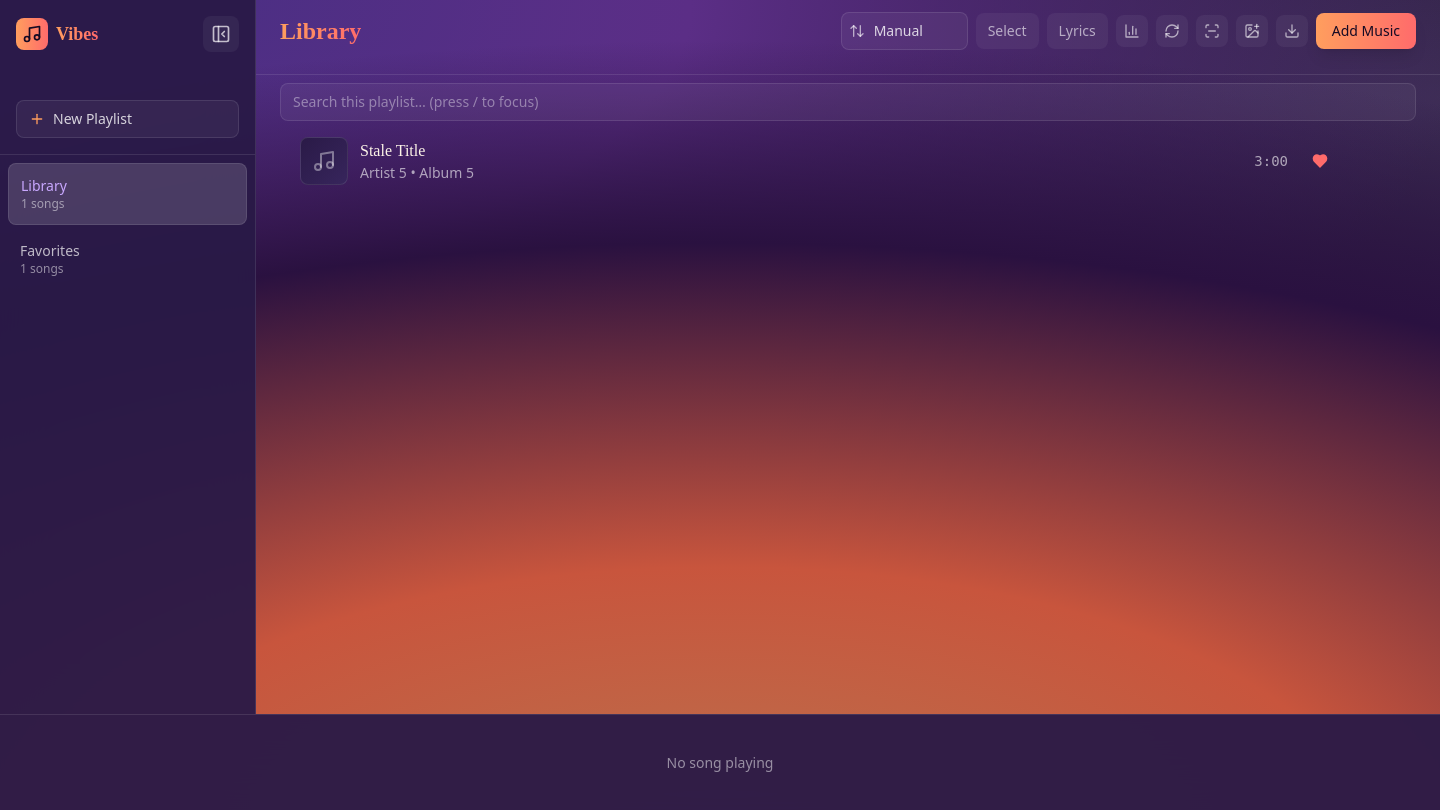
it: re-scan tags › re-reads tags from disk while keeping the id and the heart
Click the button named "Re-scan tags": coordinates (1212, 31) x1=1196 y1=15 x2=1228 y2=47
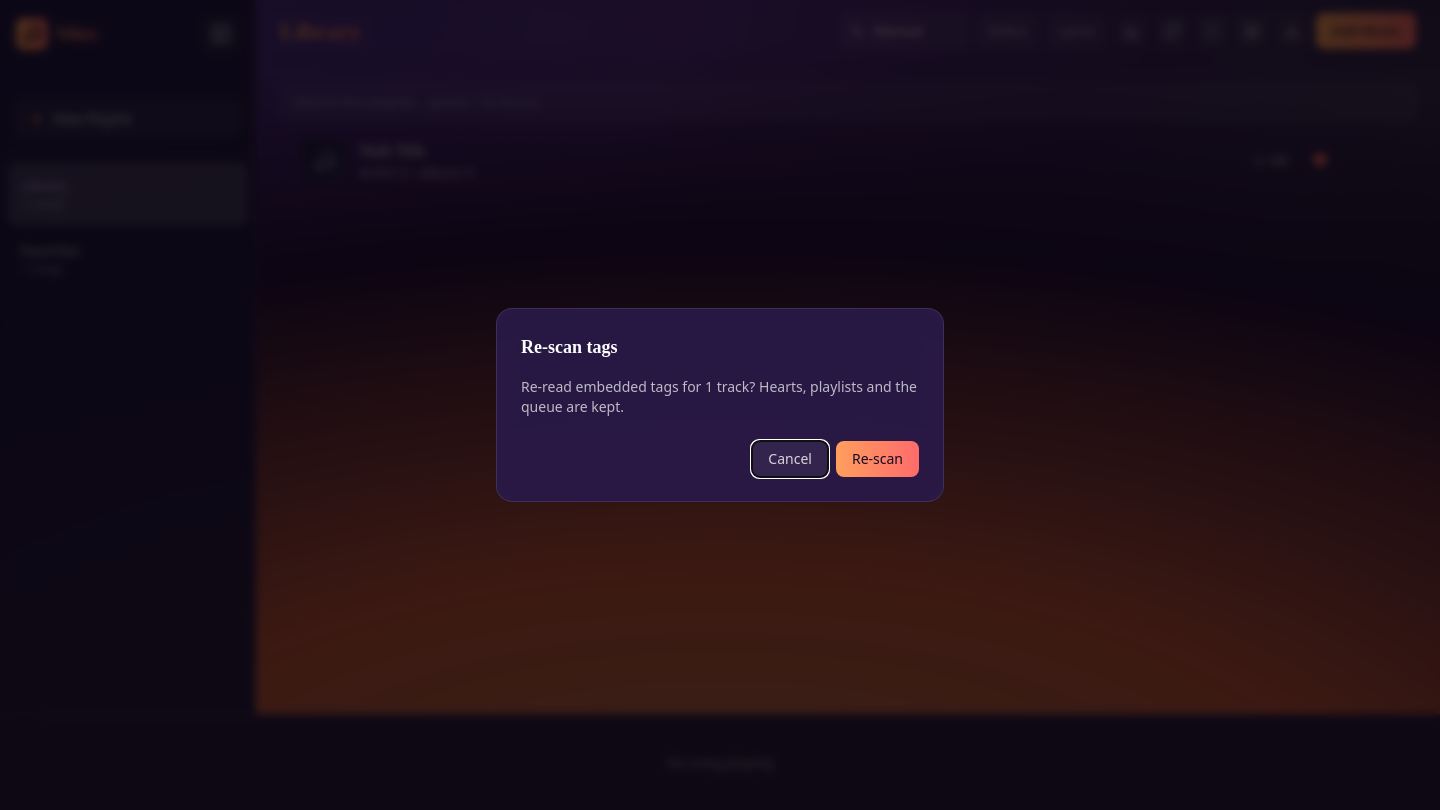
Click the button "Re-scan": coordinates (878, 459) x1=836 y1=441 x2=919 y2=477
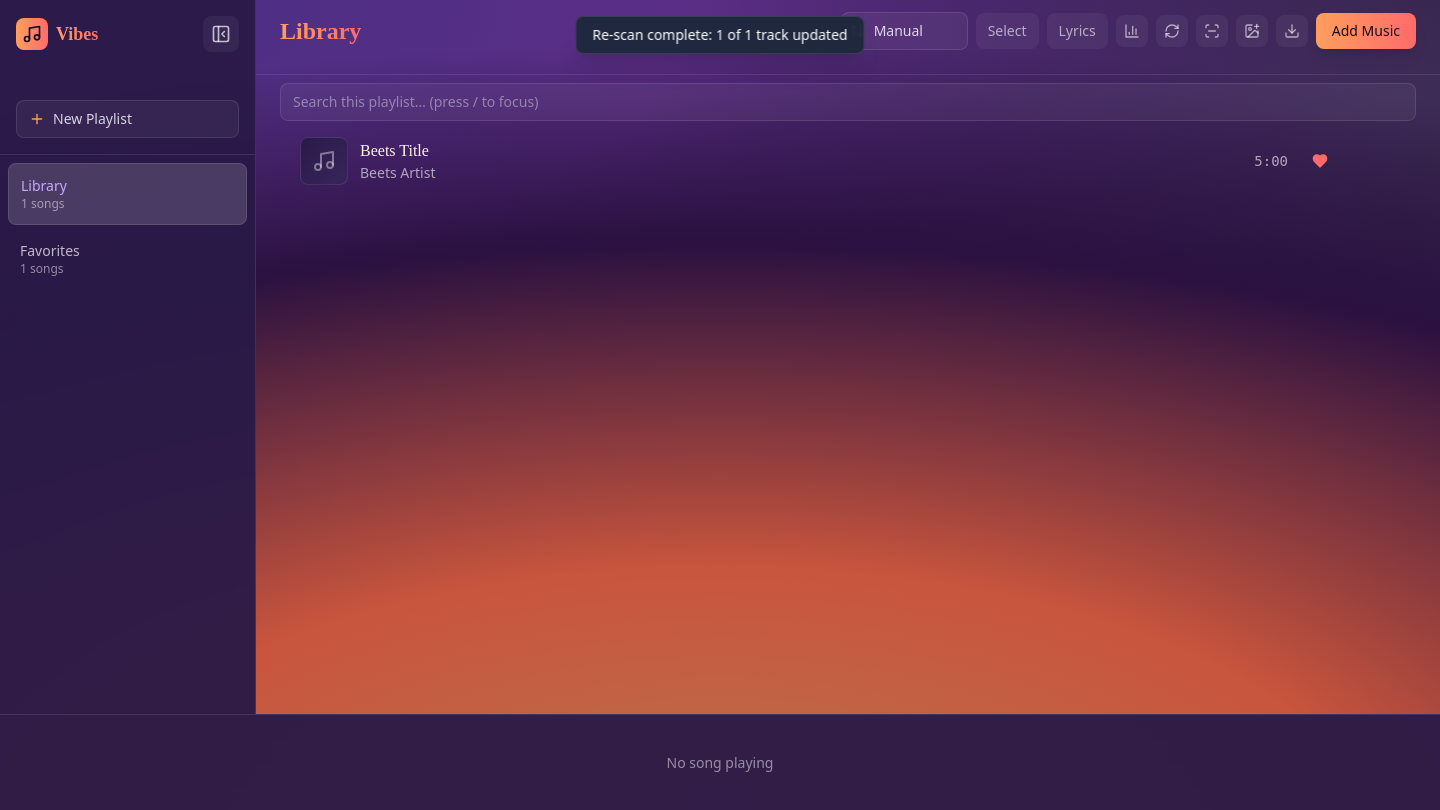
expect the text "Beets Title" is shown: met, box x1=360 y1=142 x2=429 y2=159
expect the button "Stale Title" is gone: met
